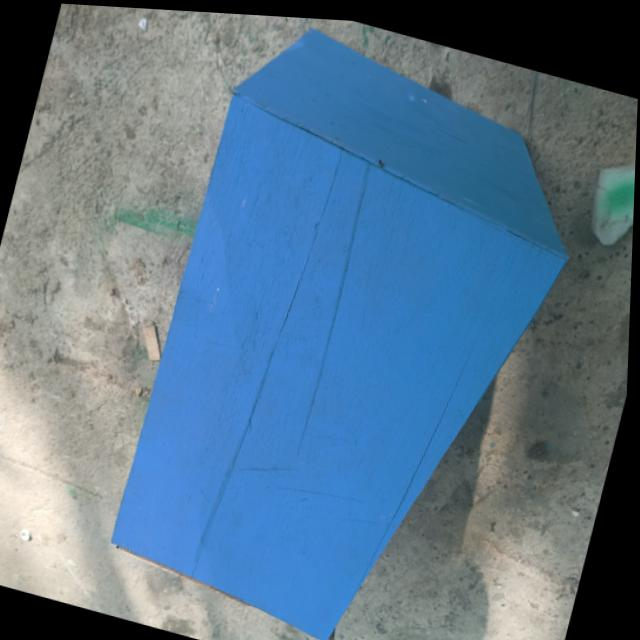blue_box: (101, 6, 612, 640)
